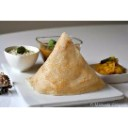dosa: (34, 32, 105, 95)
